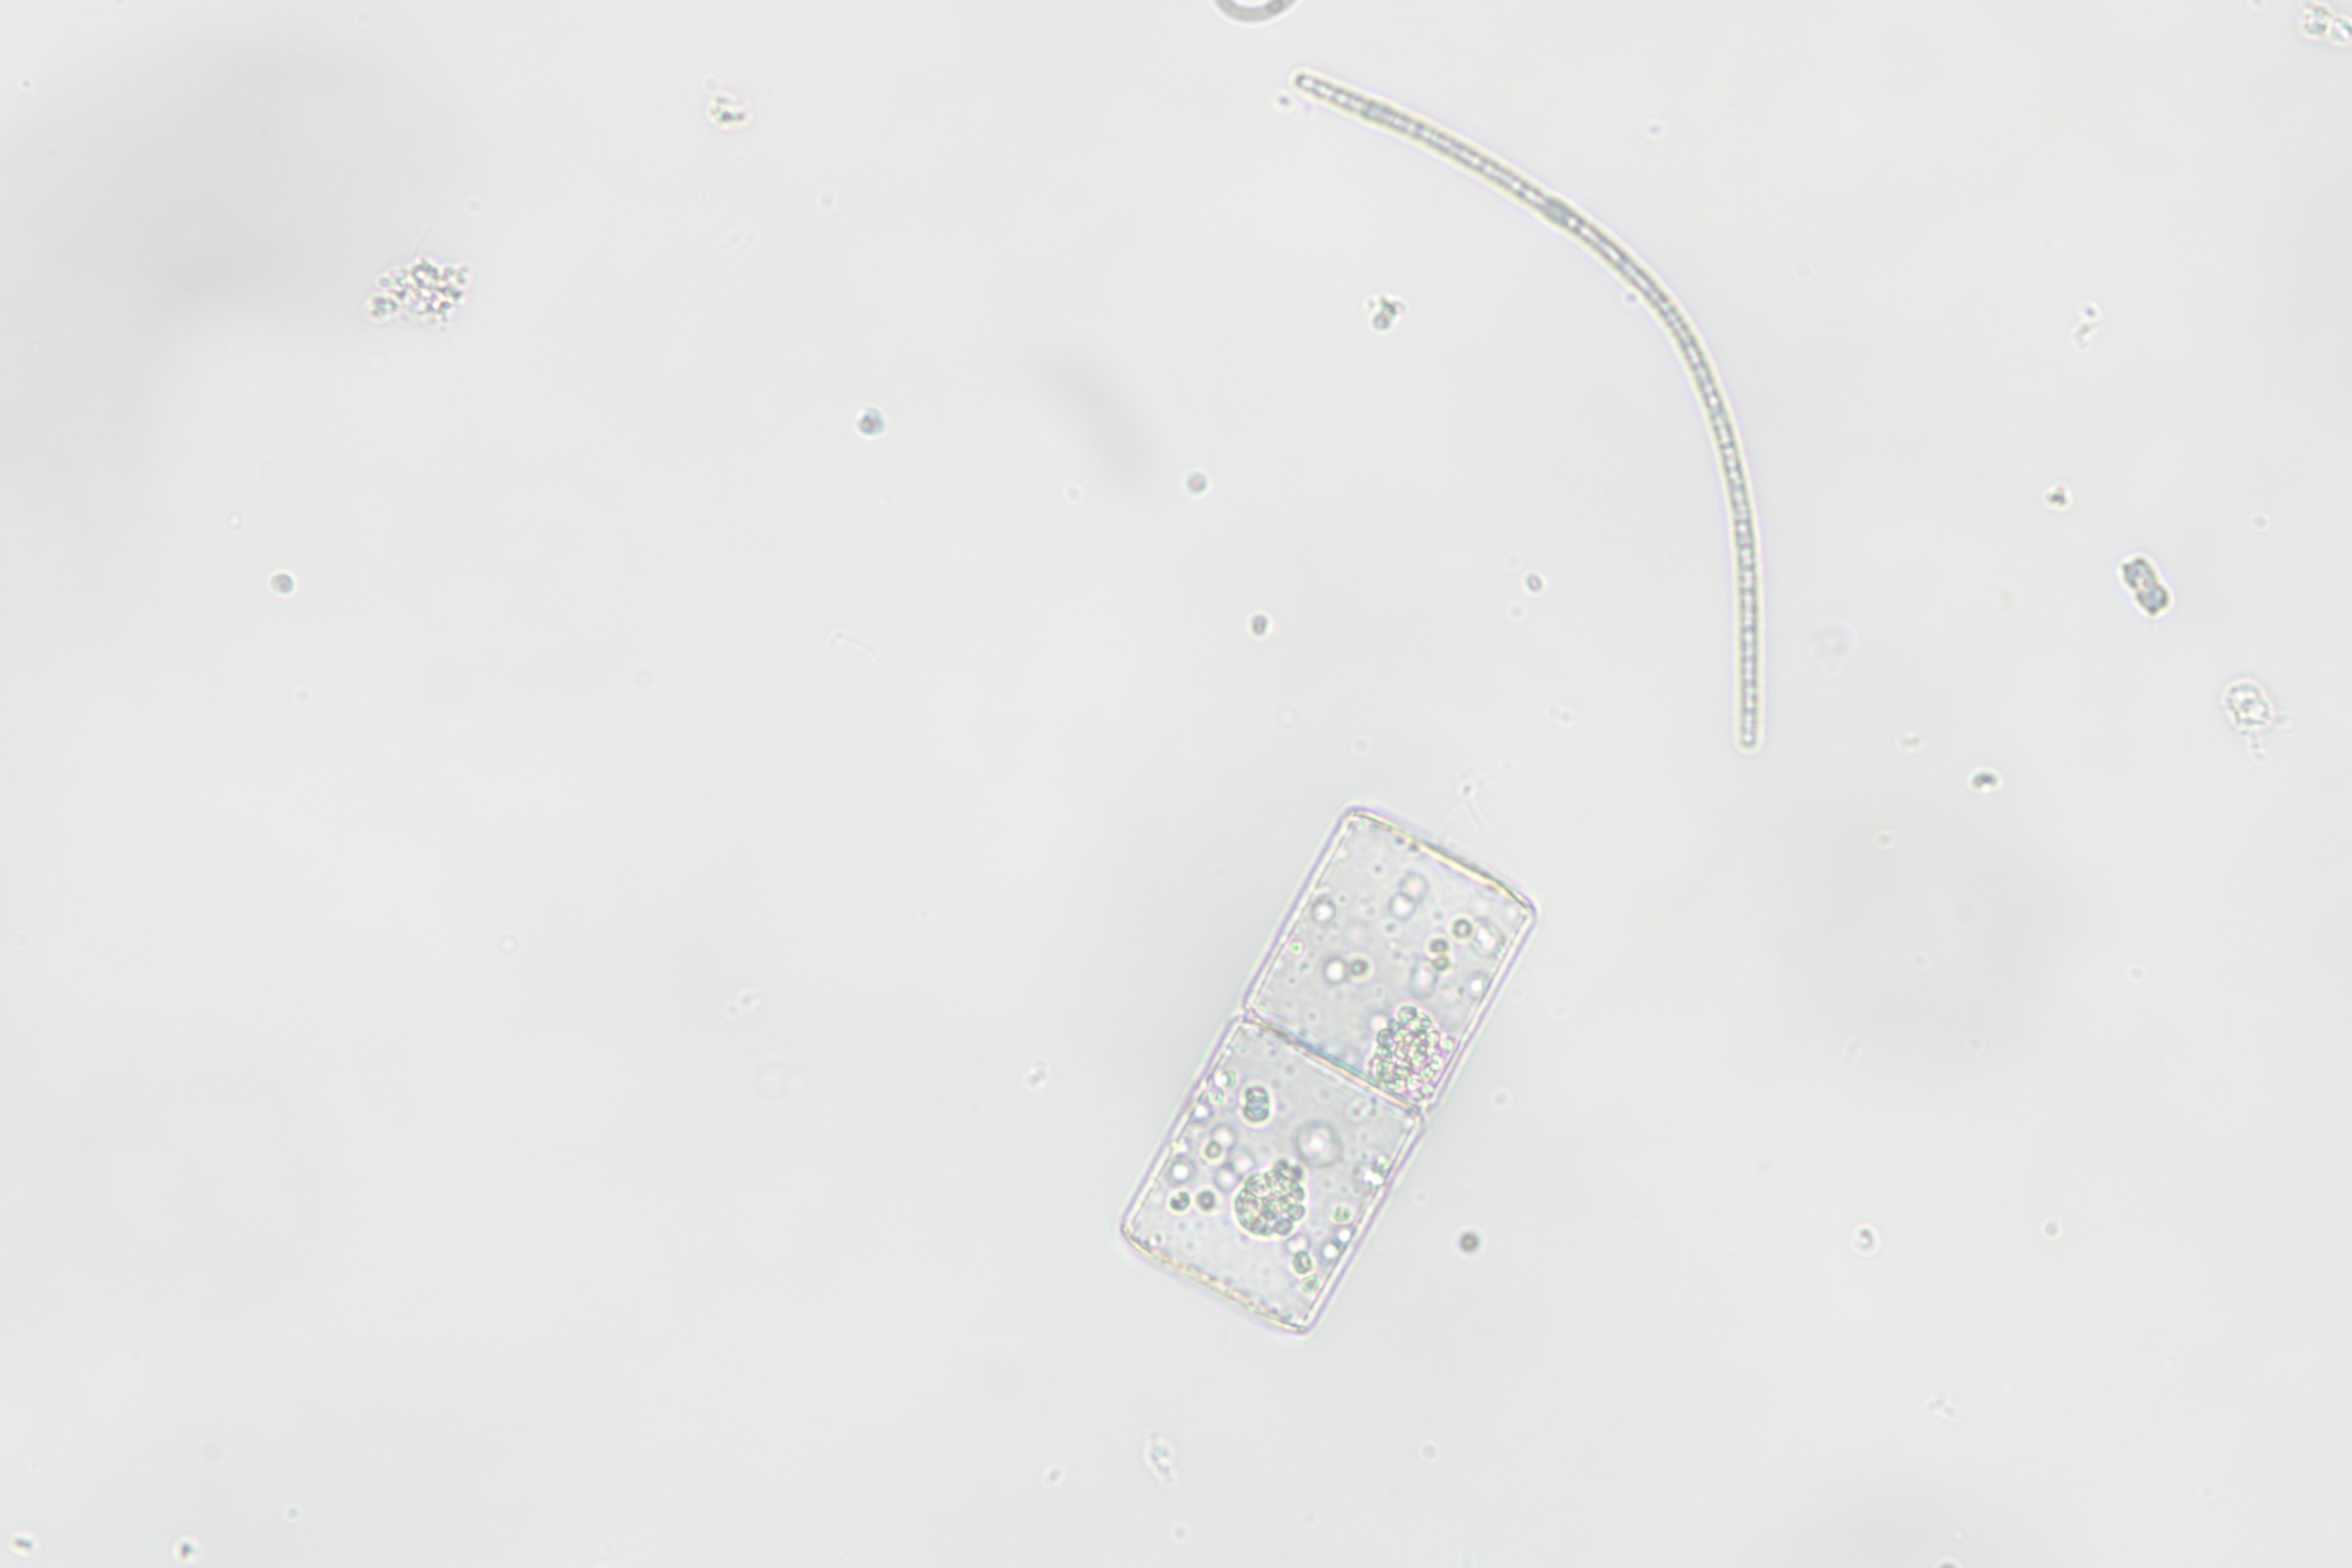guinardia flaccida: (1122, 780, 1538, 1342)
